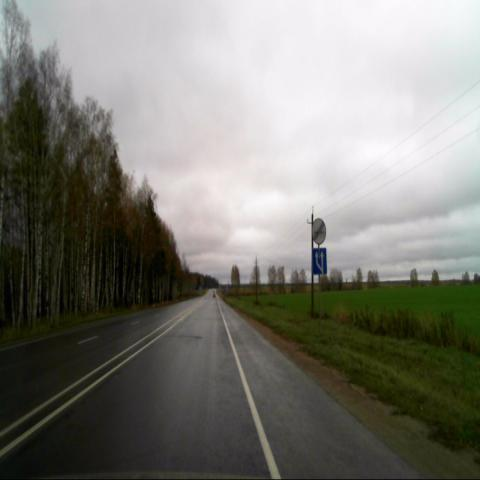3_21: (312, 218, 326, 246)
